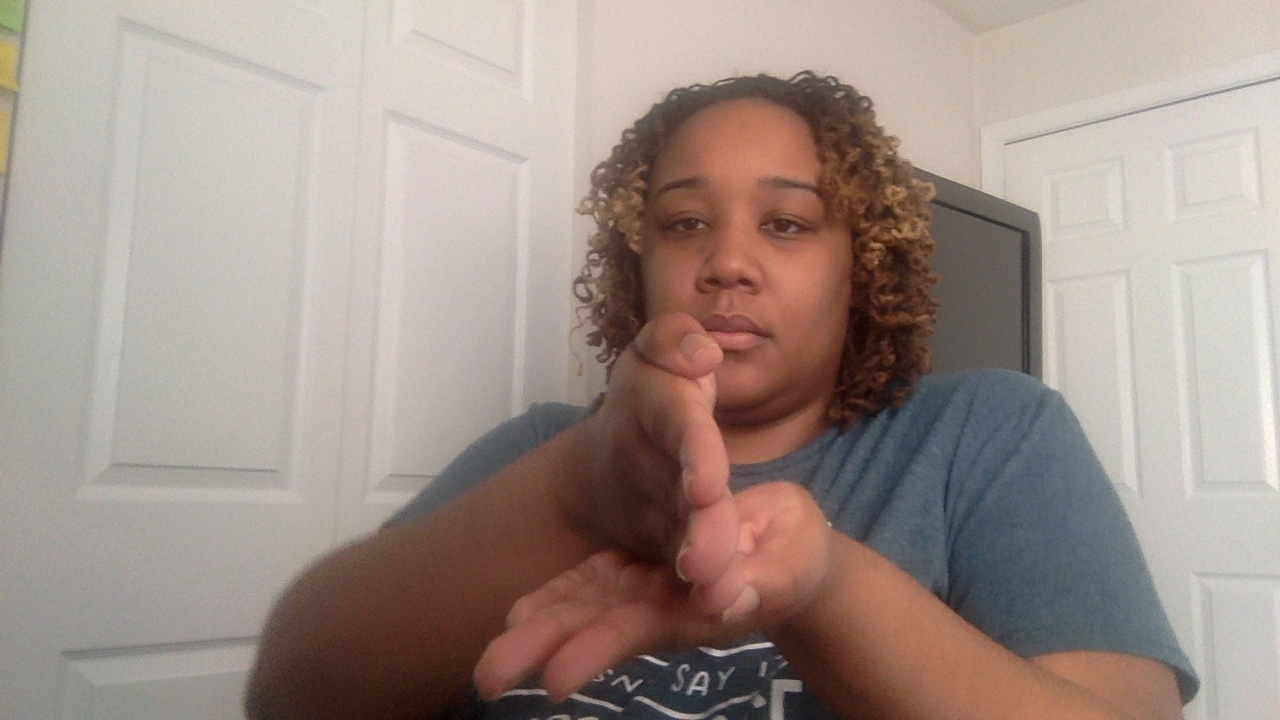stop: (476, 308, 820, 694)
